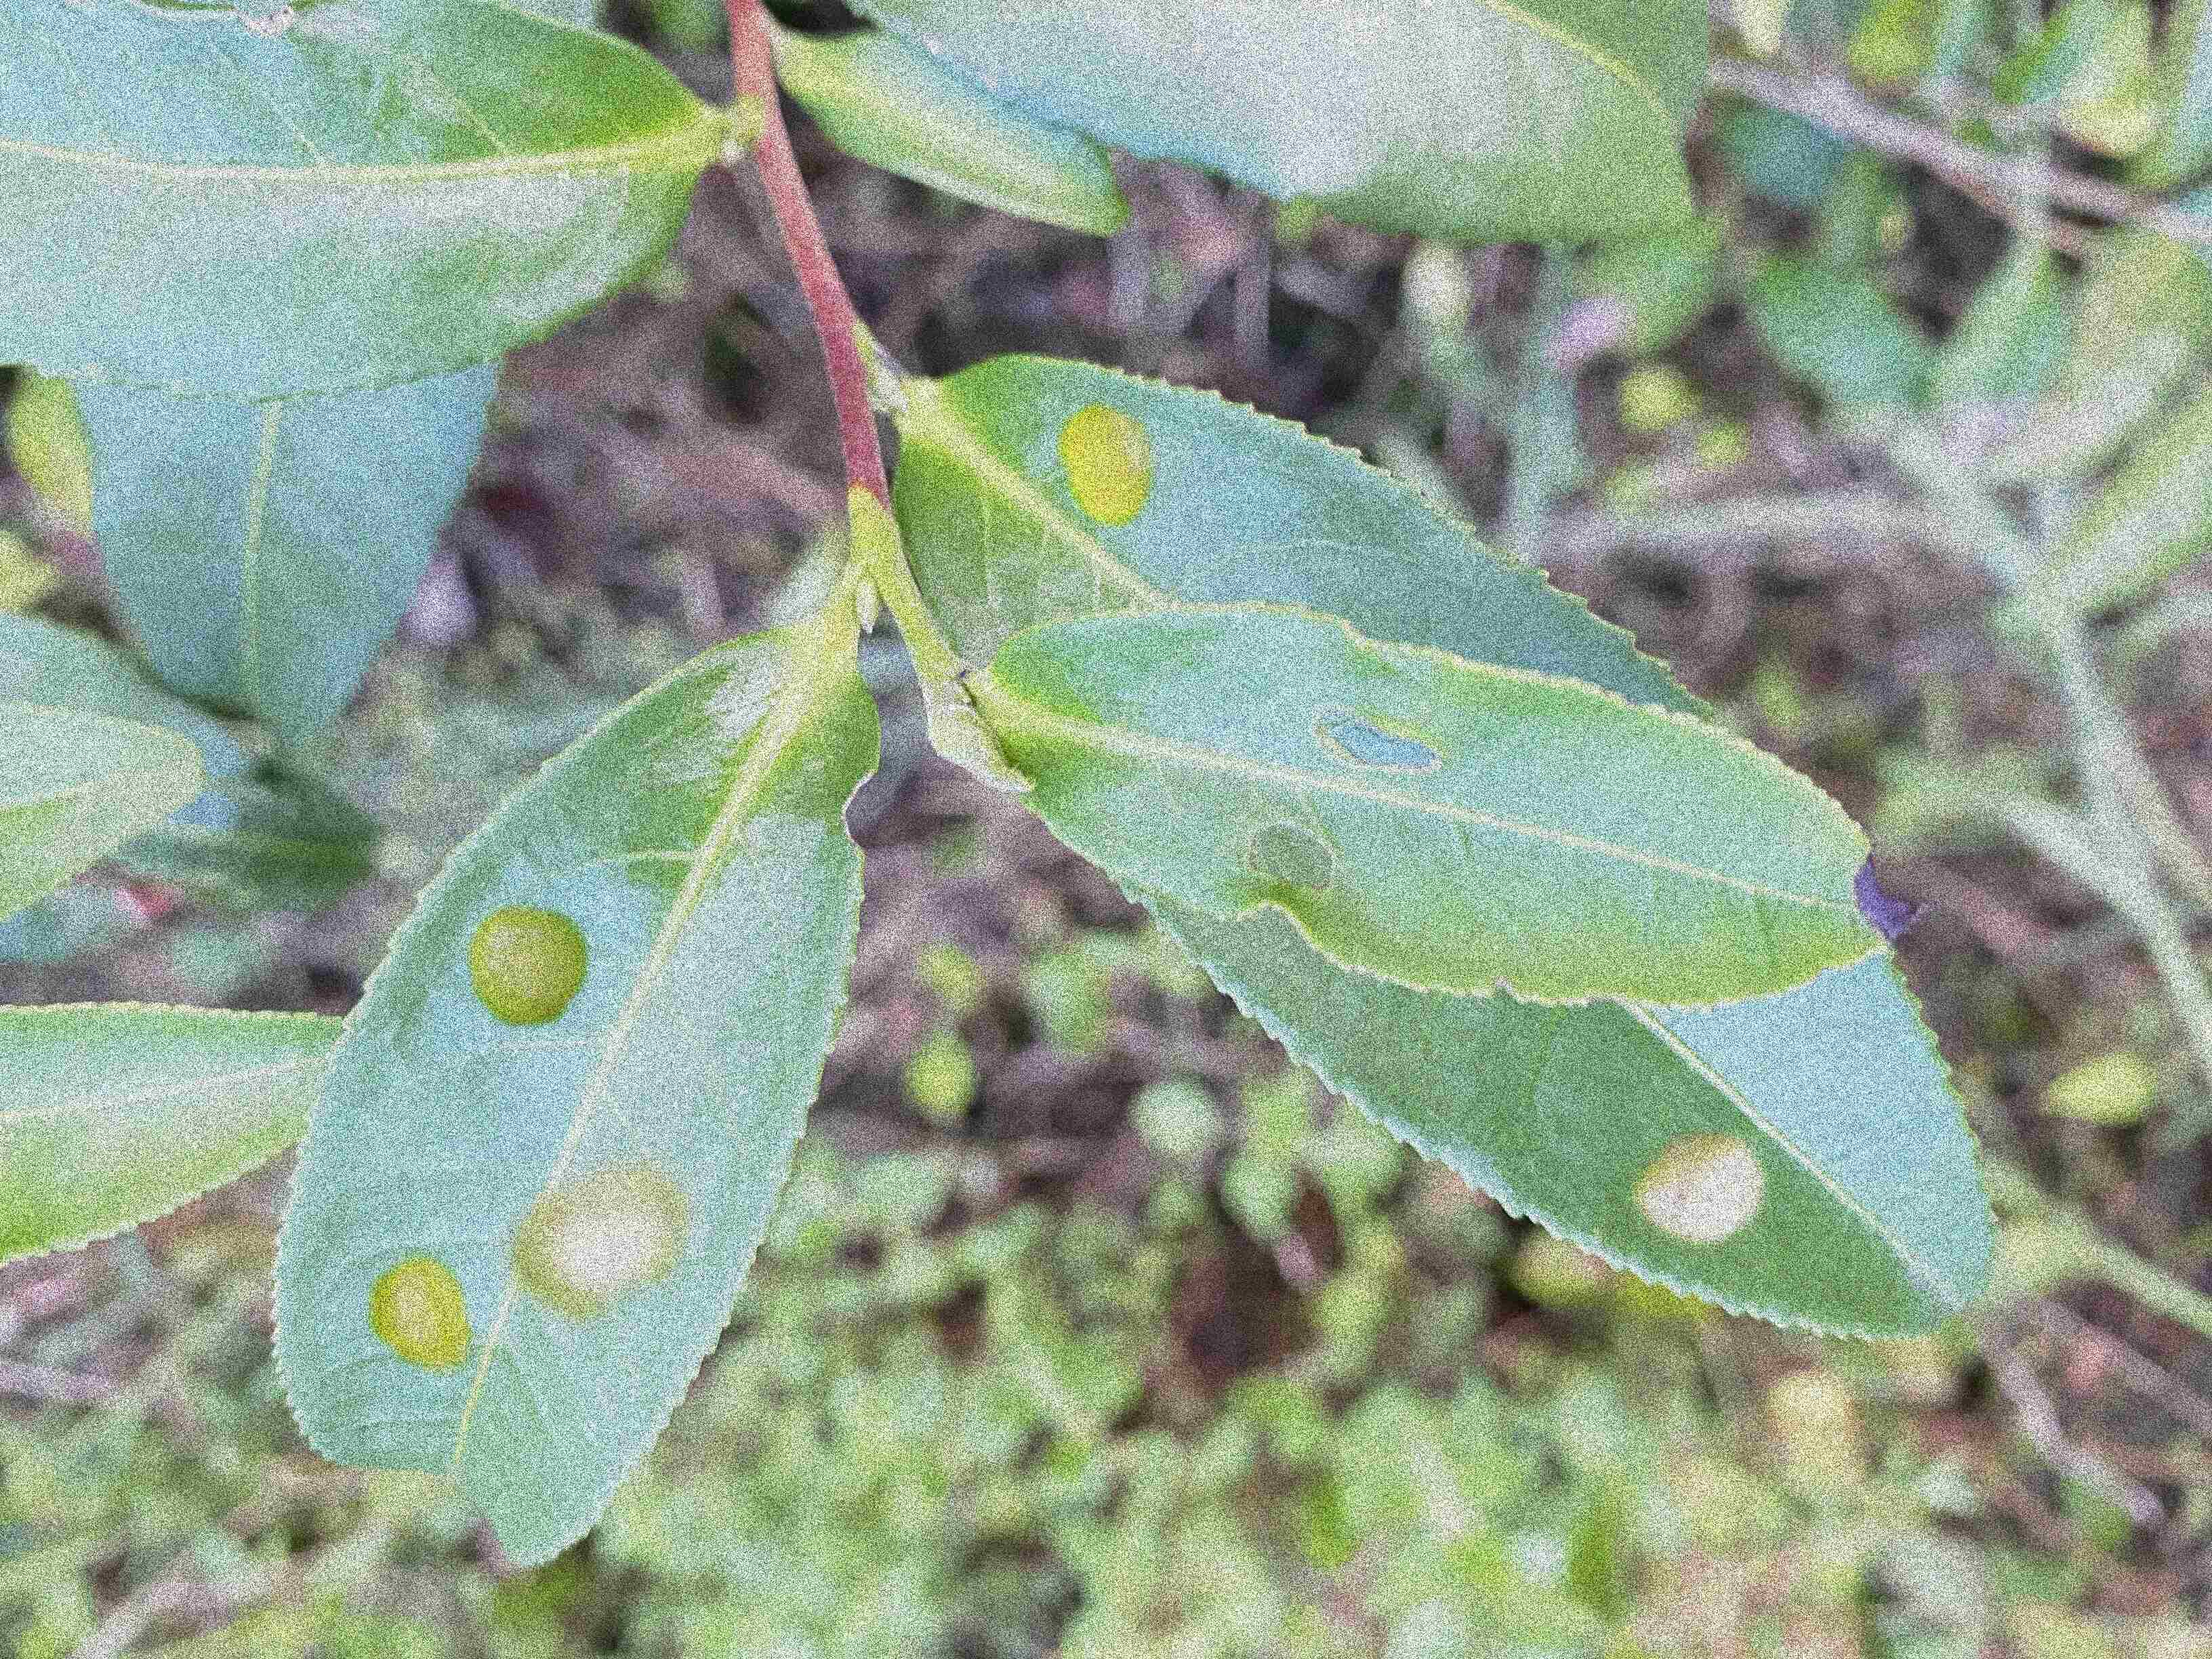chabing_high: (887, 350, 2005, 1344), (268, 631, 883, 1565)
chihuo_high: (979, 594, 1853, 1012)
tanju_low: (5, 0, 712, 404)
